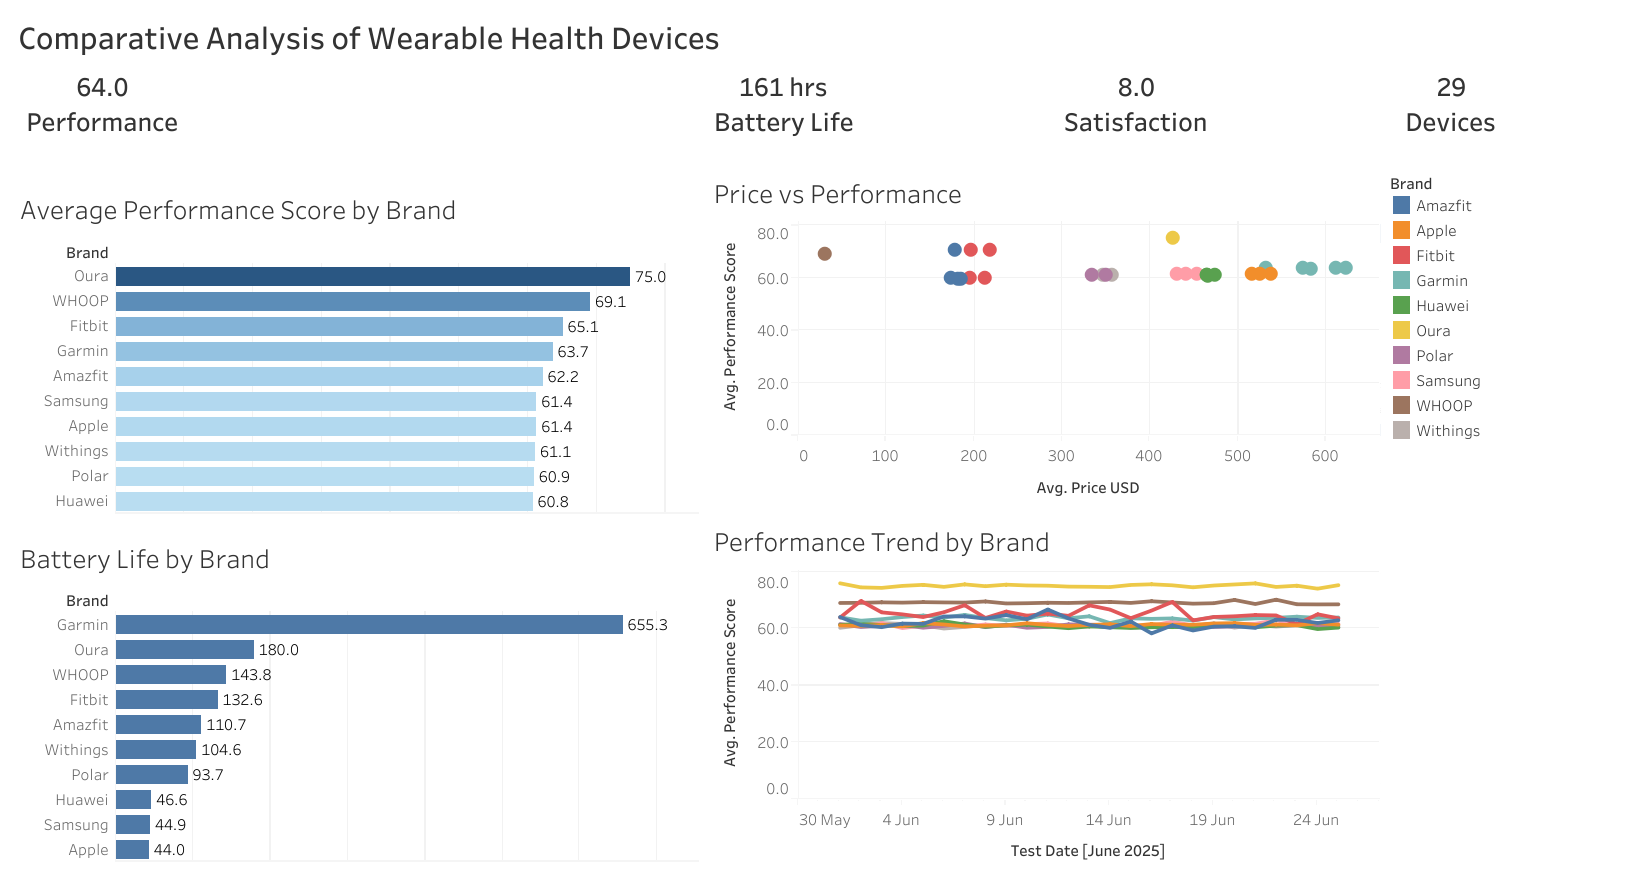

The page's visual inventory and layout, read from the dashboard file:
{"tool":"tableau","page":{"name":"Dashboard 1","canvas":[1000,1000],"units":"permille","ordinal":0},"visuals":[{"type":"title","box":[6.1,13.9,987.8,73.2]},{"type":"worksheet","title":"KPI","mark":"Automatic","box":[6.1,87.1,422.7,111.5]},{"type":"worksheet","title":"KPI (2)","mark":"Automatic","box":[428.8,87.1,229.2,111.5]},{"type":"worksheet","title":"KPI (3)","mark":"Automatic","box":[658,87.1,212.4,111.5]},{"type":"worksheet","title":"KPI (4)","mark":"Automatic","box":[870.4,87.1,123.5,111.5]},{"type":"worksheet","title":"Performance by brand","mark":"Automatic","rows":["Brand"],"cols":["Performance_Score"],"box":[6.1,198.6,422.7,365.9]},{"type":"worksheet","title":"Price vs Performance","mark":"Circle","rows":["Performance_Score"],"cols":["Price_USD"],"box":[428.8,198.6,229.2,787.5]},{"type":"legend","title":"Price vs Performance","param":"[federated.1l9mzyl1016g14178ntgu0c2ngf8].[none:Brand:nk]","box":[658,198.6,63.2,787.5]},{"type":"worksheet","title":"Performance Trend by Brand","mark":"Line","rows":["Performance_Score"],"cols":["Test_Date"],"box":[721.2,198.6,272.7,787.5]},{"type":"worksheet","title":"Battery Life by Brand","mark":"Automatic","rows":["Brand"],"cols":["Battery_Life_Hours"],"box":[6.1,564.5,422.7,421.6]}]}

Visuals, with their boxes on the dashboard's canvas, which has no fixed pixel size, in thousandths of its width and height (x1, y1, x2, y2). These are canvas units, not pixel positions in the 1640x884 screenshot, which may show the page scaled, cropped or inside an application window:
title: <box>6,14,994,87</box>
"KPI" worksheet: <box>6,87,429,199</box>
"KPI (2)" worksheet: <box>429,87,658,199</box>
"KPI (3)" worksheet: <box>658,87,870,199</box>
"KPI (4)" worksheet: <box>870,87,994,199</box>
"Performance by brand" worksheet: <box>6,199,429,564</box>
"Price vs Performance" worksheet (Circle marks): <box>429,199,658,986</box>
"Price vs Performance" legend: <box>658,199,721,986</box>
"Performance Trend by Brand" worksheet (Line marks): <box>721,199,994,986</box>
"Battery Life by Brand" worksheet: <box>6,564,429,986</box>
